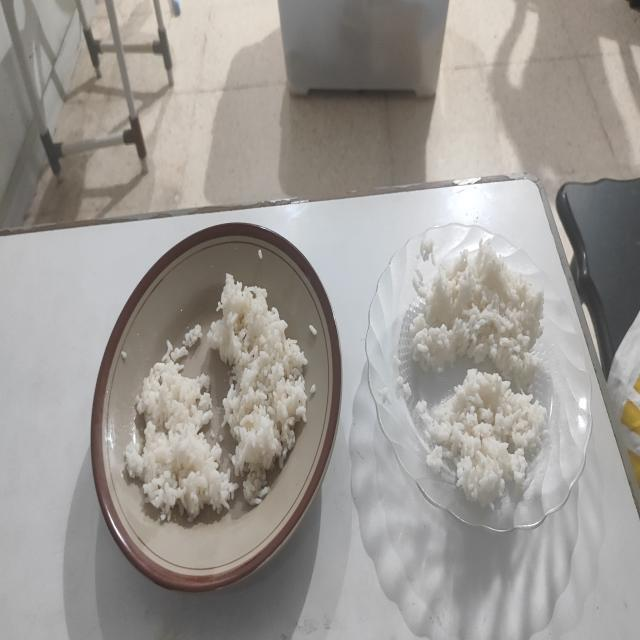nasi_putih: (208, 274, 308, 506), (409, 238, 544, 390), (125, 341, 231, 521), (420, 369, 548, 506)
